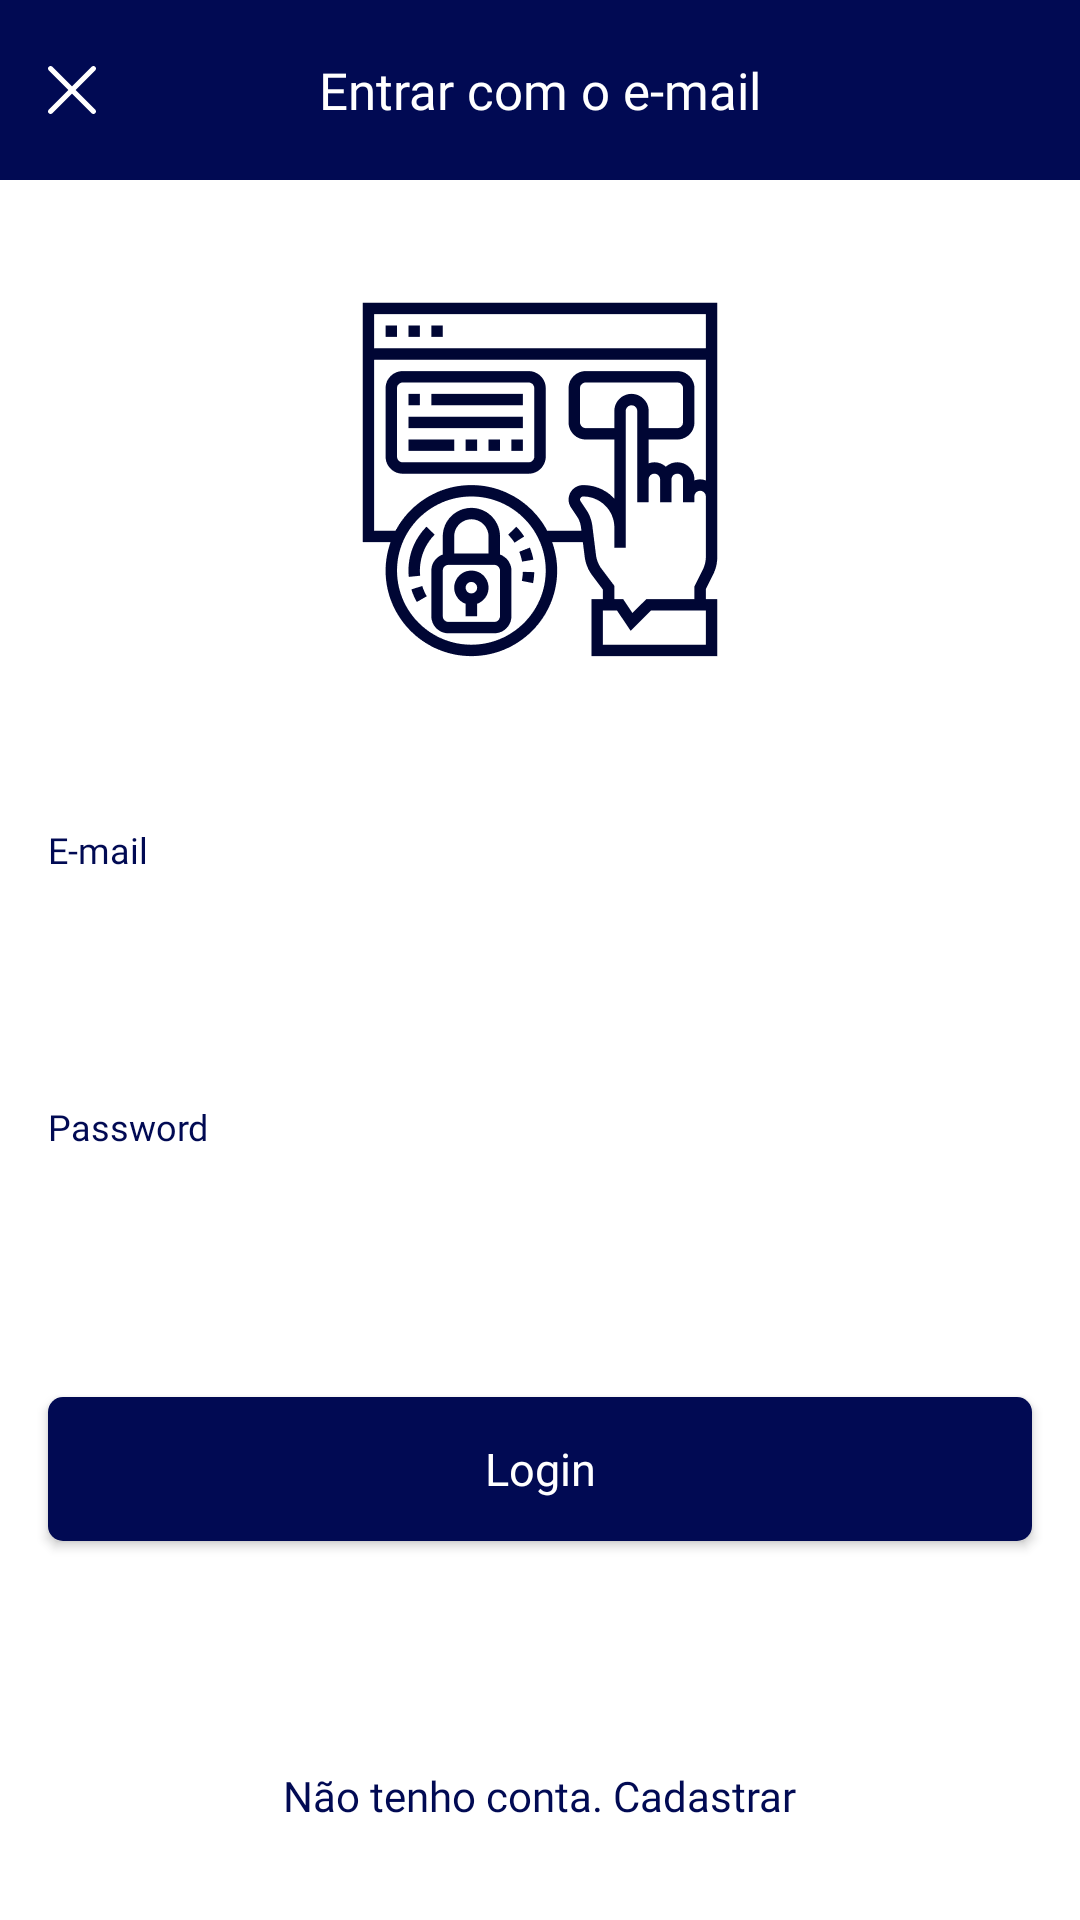

Where icons sit on this 1080 x 1920 app screen, as rect(x1, y1, x2, y2):
noun login: rect(362, 302, 718, 657)
